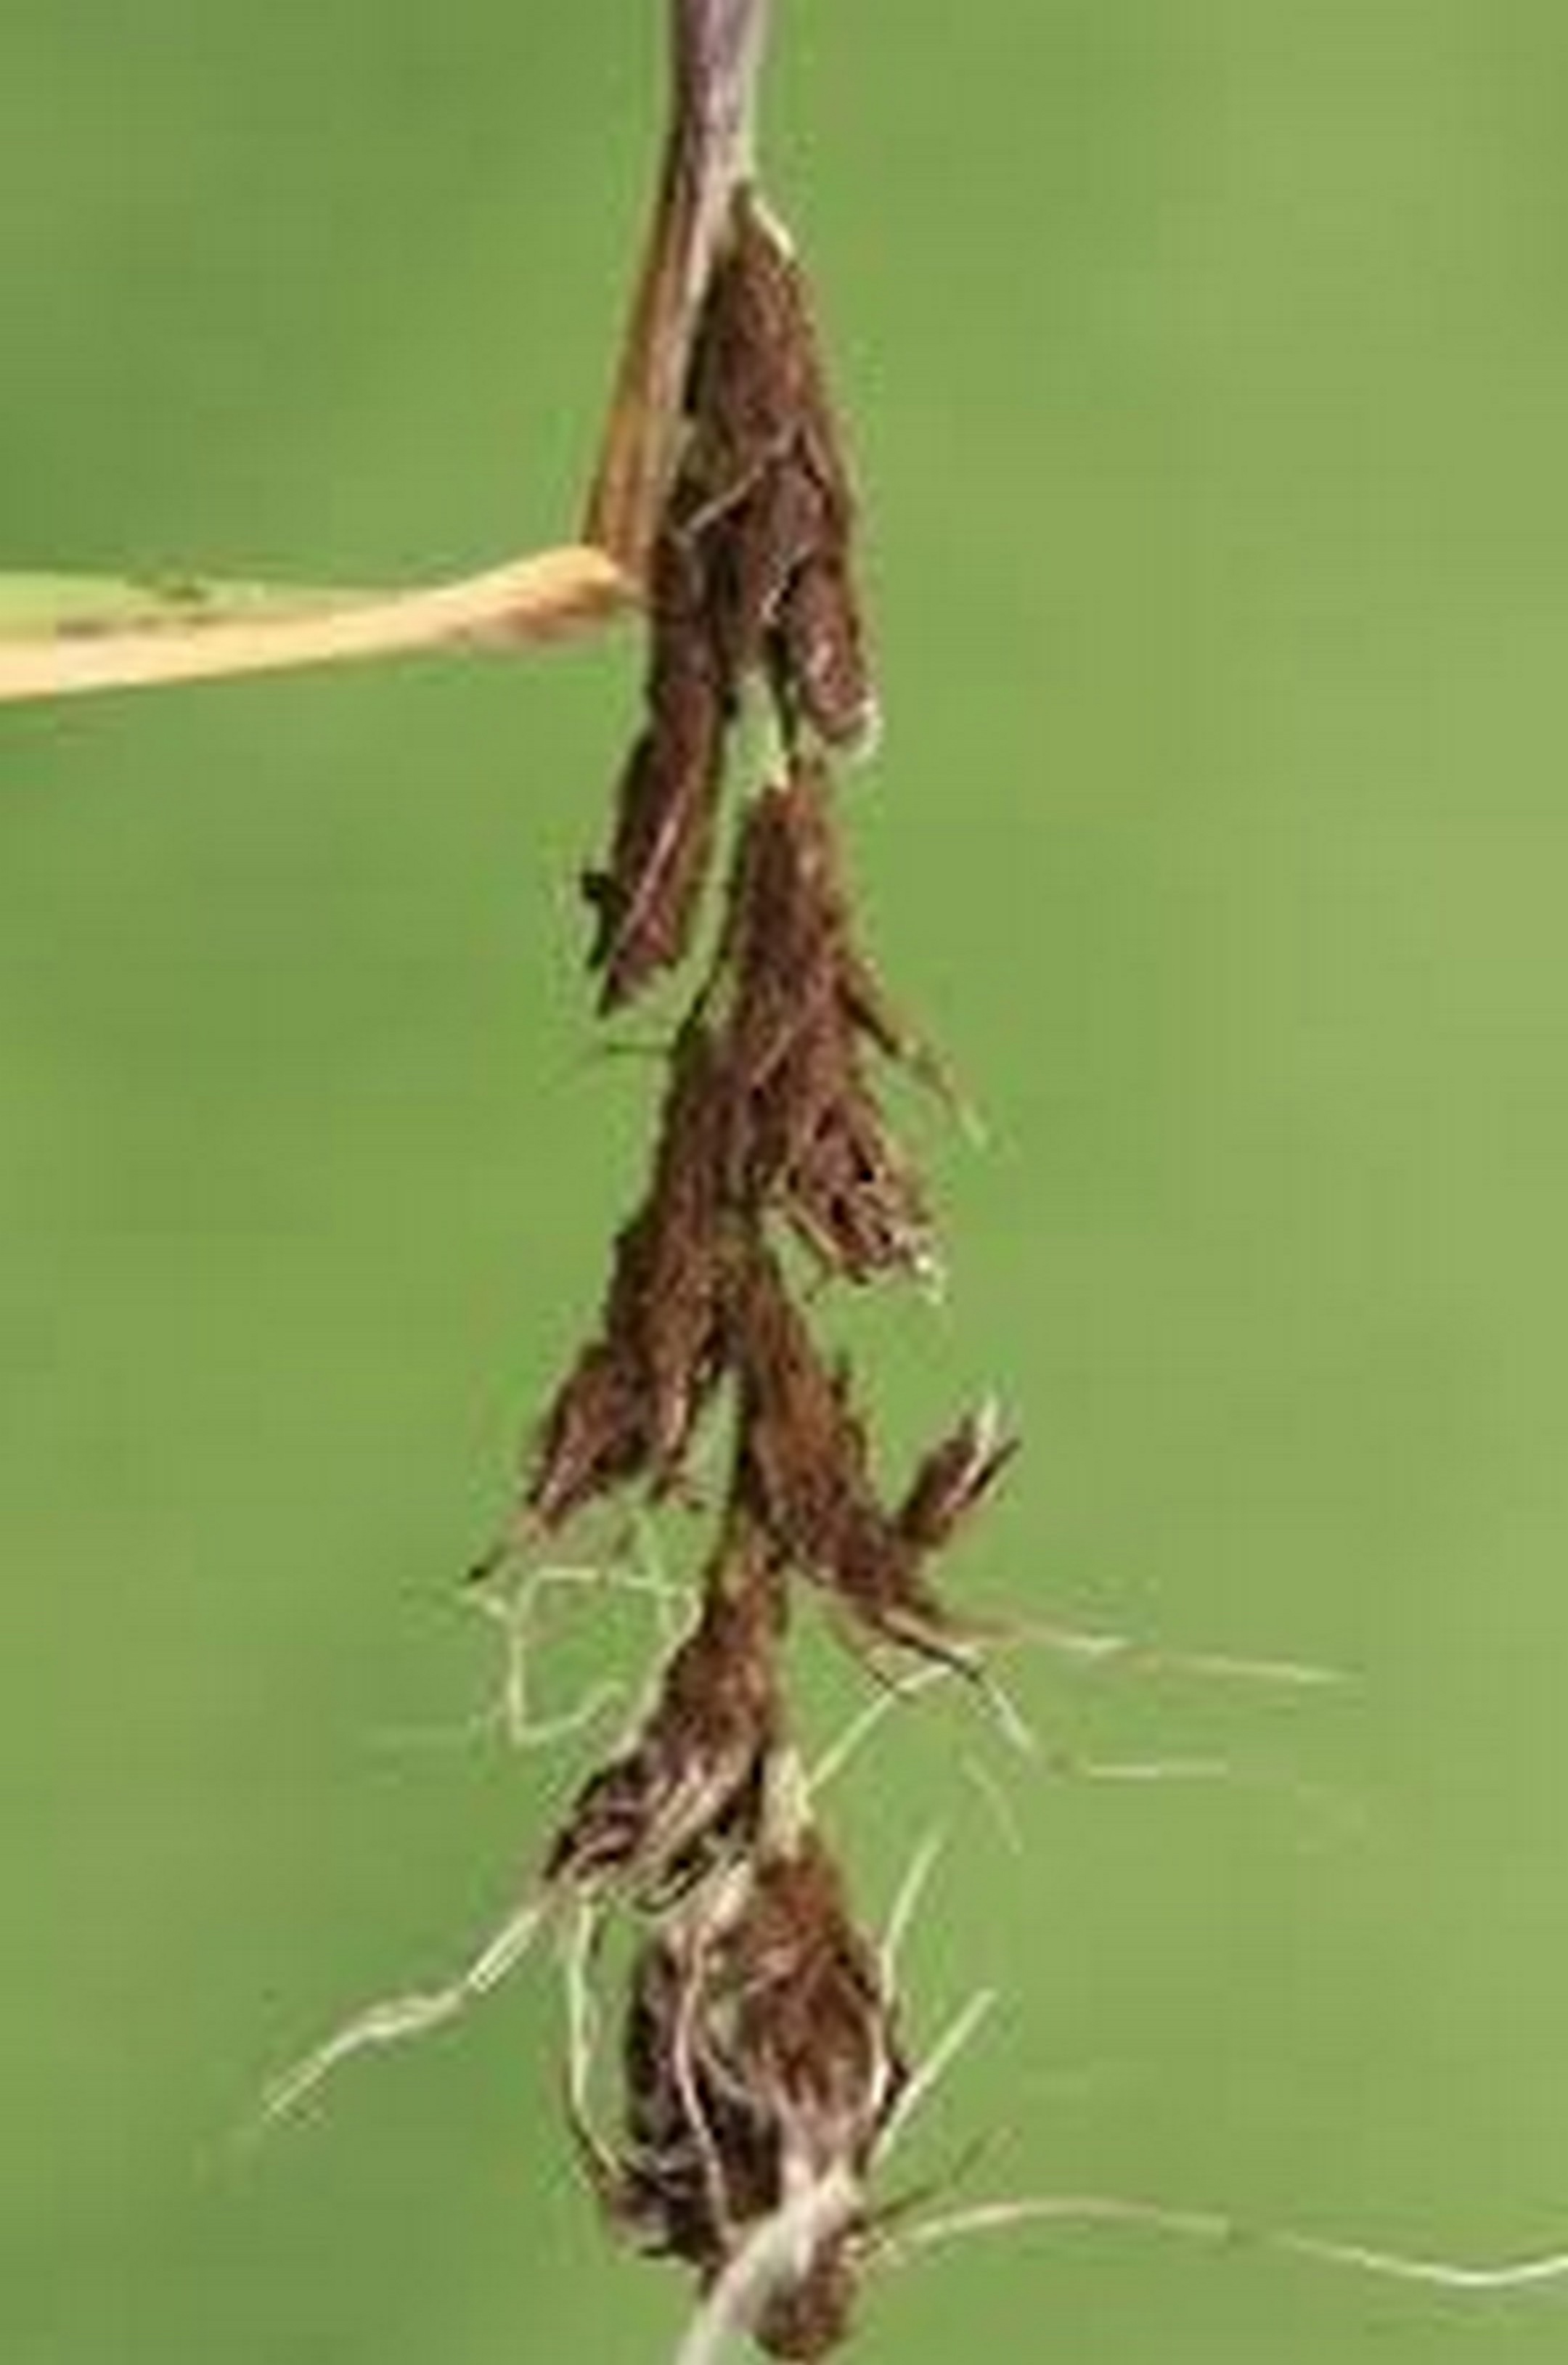Wheat Loose Smut: (507, 168, 1010, 2285)
